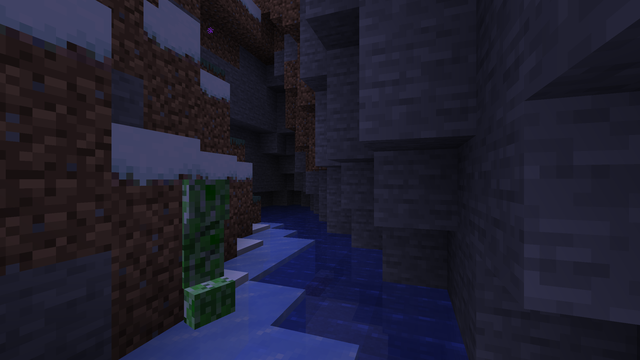creepers: (179, 172, 235, 326)
